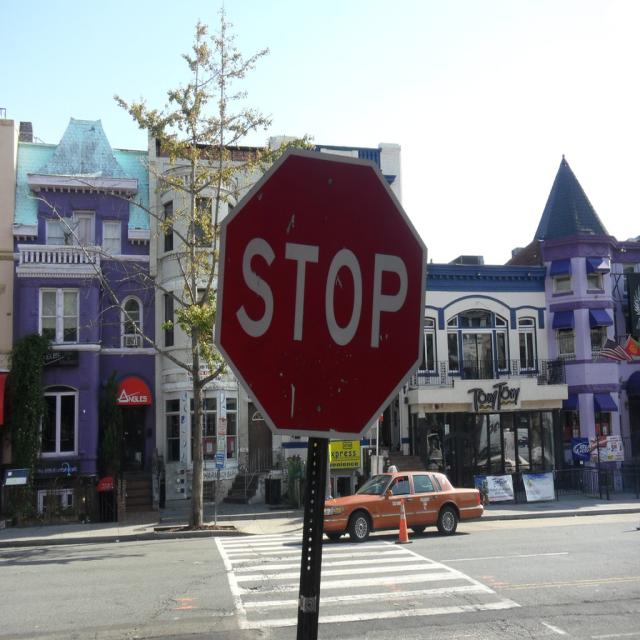Stop-sign: (212, 142, 428, 443)
